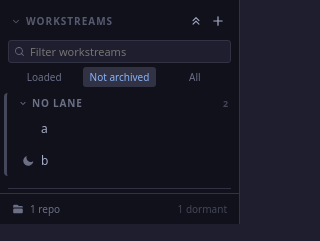
WorkstreamSidebar unified list › filters to loaded workstreams only
Click the button with test id "ws-list-filter-loaded": (44, 77) [8,67,80,87]
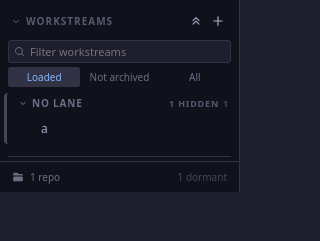
Expected: the text "a" is shown, [41,120,48,137]
Expected: the text "b" is gone
